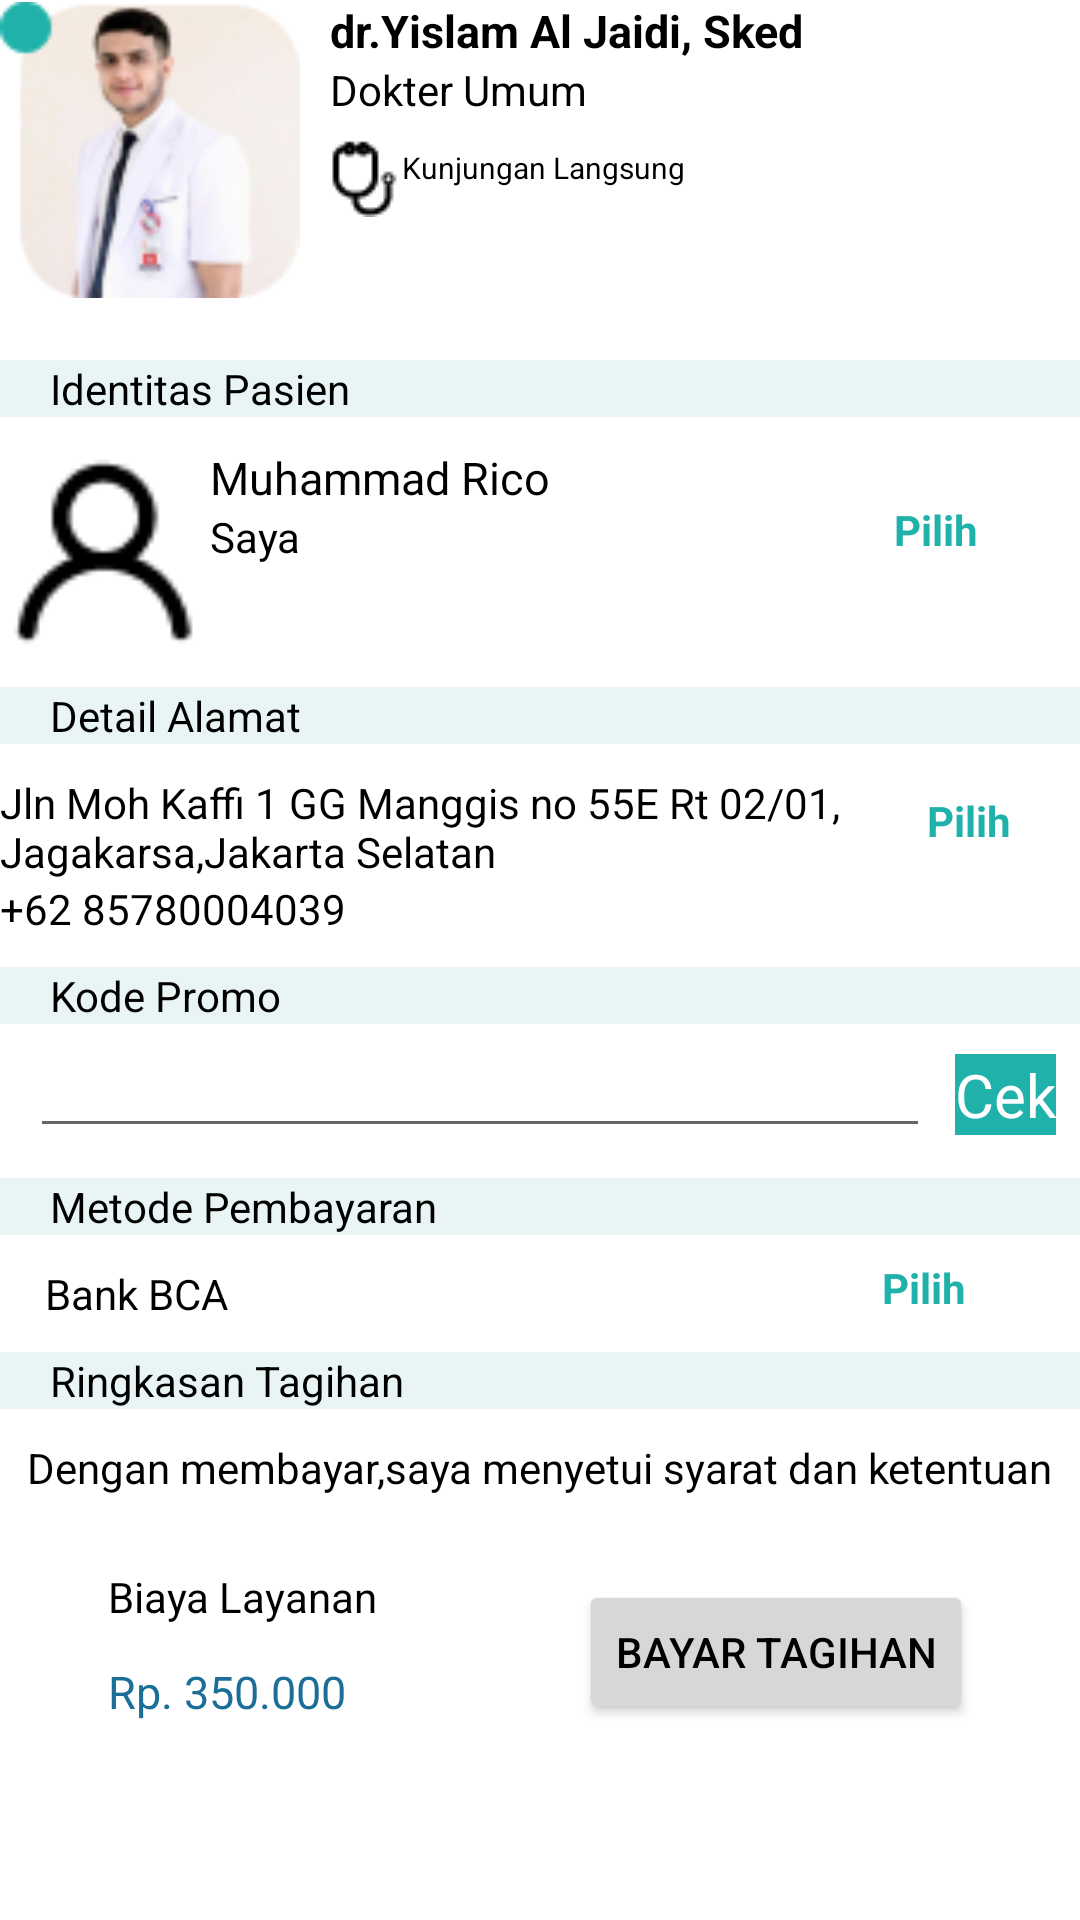

Point at icon controls on the screen. Image size 1080*1920, points as (x=x, y=y).
doctor: (x=150, y=150)
user: (x=104, y=552)
